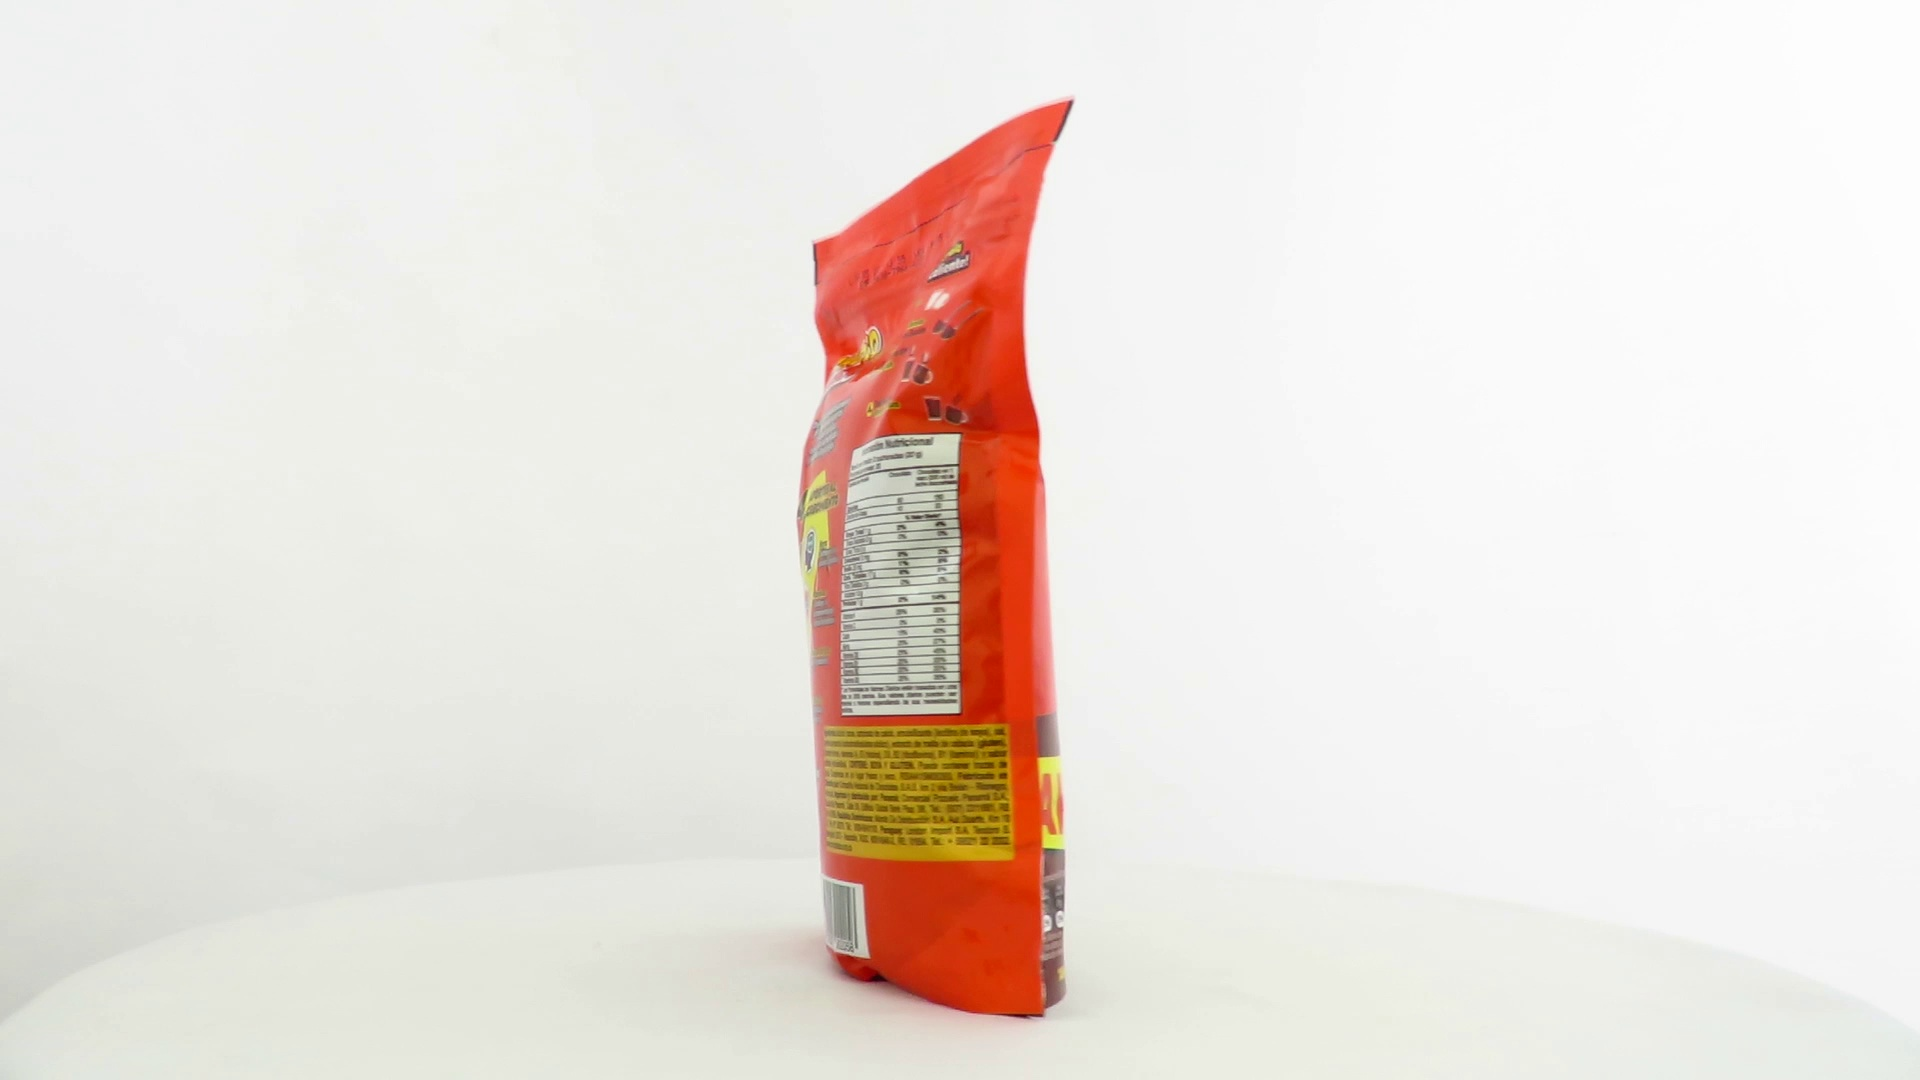COL0170103DYP40000: (791, 95, 1080, 1029)
